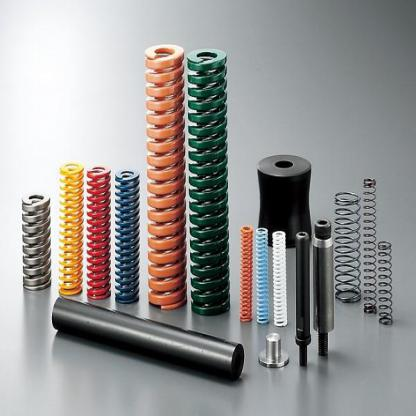FOD: (142, 42, 189, 310), (186, 45, 231, 316), (111, 166, 141, 308), (332, 188, 364, 306), (58, 160, 85, 298), (86, 163, 112, 303), (20, 190, 51, 294), (362, 175, 377, 317), (254, 224, 271, 328), (238, 223, 254, 325), (271, 228, 287, 327), (377, 237, 394, 327)
